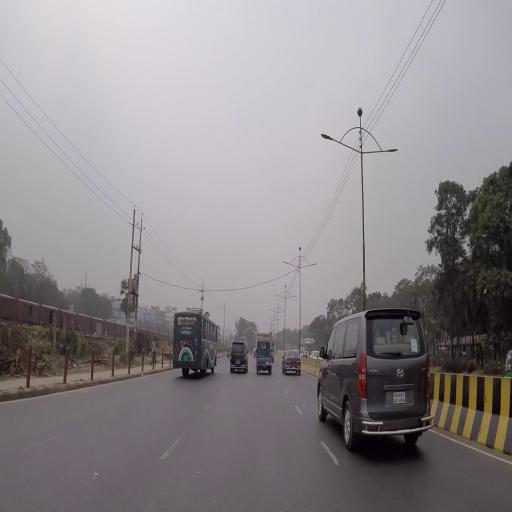bus: (172, 308, 219, 377), (300, 338, 316, 358)
car: (282, 351, 303, 377)
minivan: (316, 309, 437, 449), (230, 341, 250, 375)
pickup: (256, 340, 273, 375)
